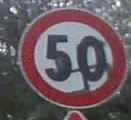limite 50: (15, 4, 129, 110)
